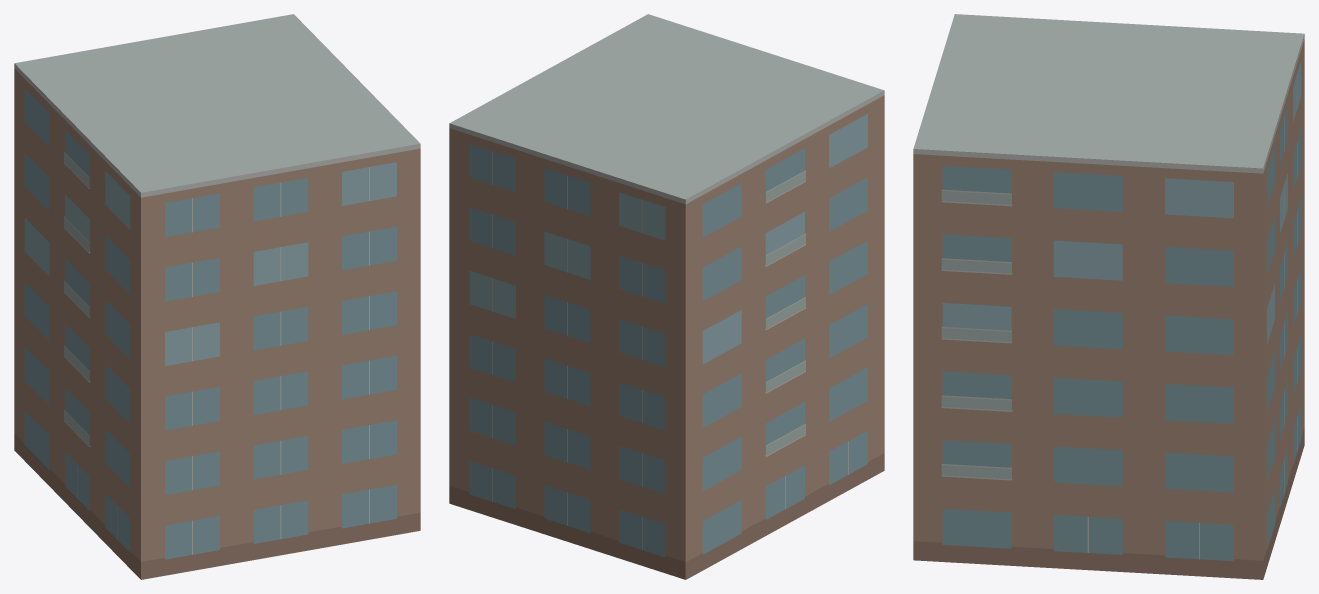
The model's file is survey-upis-32870354.glb.
3 renders of one model, left to right at view 1: azimuth 30°, elevation 25°; view 2: azimuth 150°, elevation 25°; view 3: azimuth 270°, elevation 25°, orthographic. The views are drawn at different scales.
Visible parts, largest first — view 1: survey-upis-32870354.tmp; view 2: survey-upis-32870354.tmp; view 3: survey-upis-32870354.tmp.
Boxes of the visible parts, x1,y1,x2,y2 form: survey-upis-32870354.tmp: (14, 14, 420, 579); survey-upis-32870354.tmp: (449, 14, 884, 579); survey-upis-32870354.tmp: (913, 14, 1304, 579).
Size of the model in its own units: 15.7 by 19.48 by 16.8.
